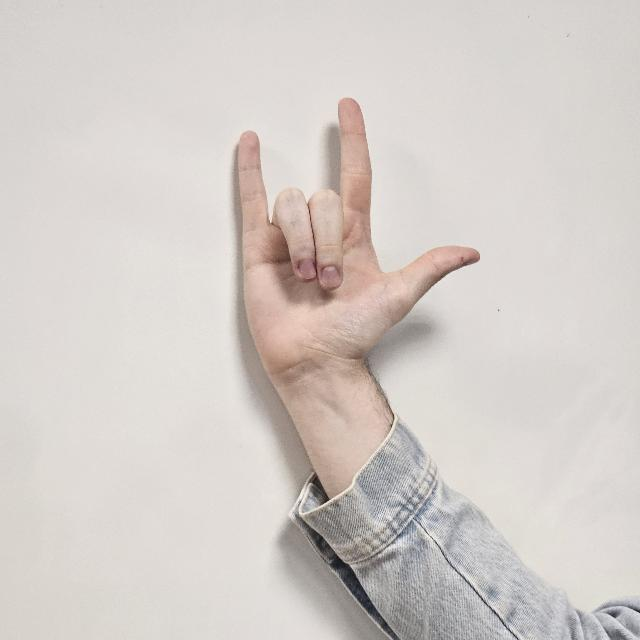Cima: (233, 96, 481, 398)
